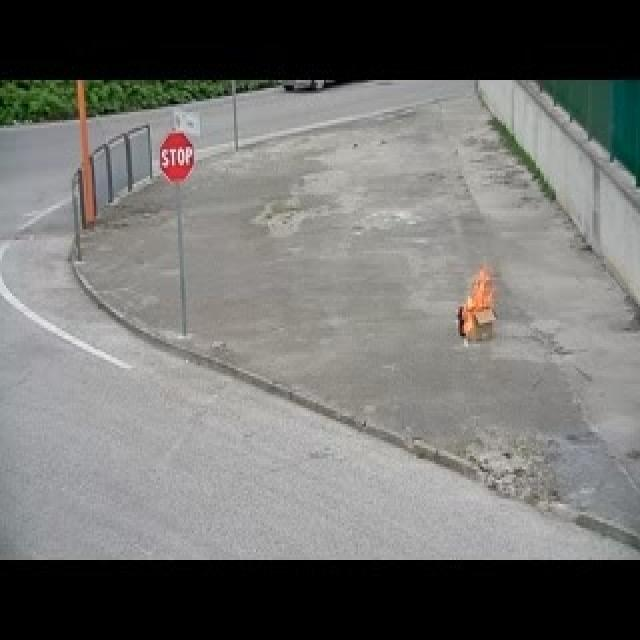fire: (464, 269, 494, 311)
